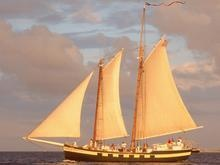fanchuan: (18, 1, 207, 163)
